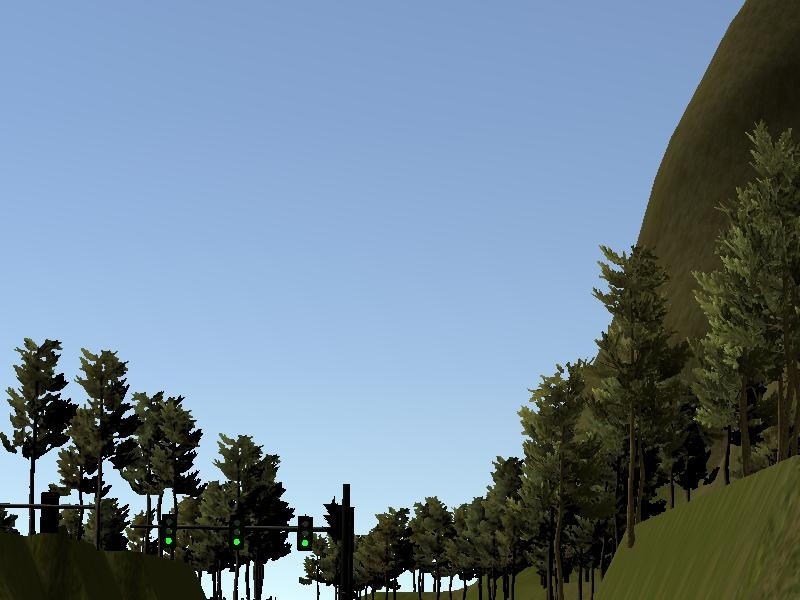GREEN: (295, 515, 313, 553), (228, 514, 246, 552), (160, 515, 178, 549)
